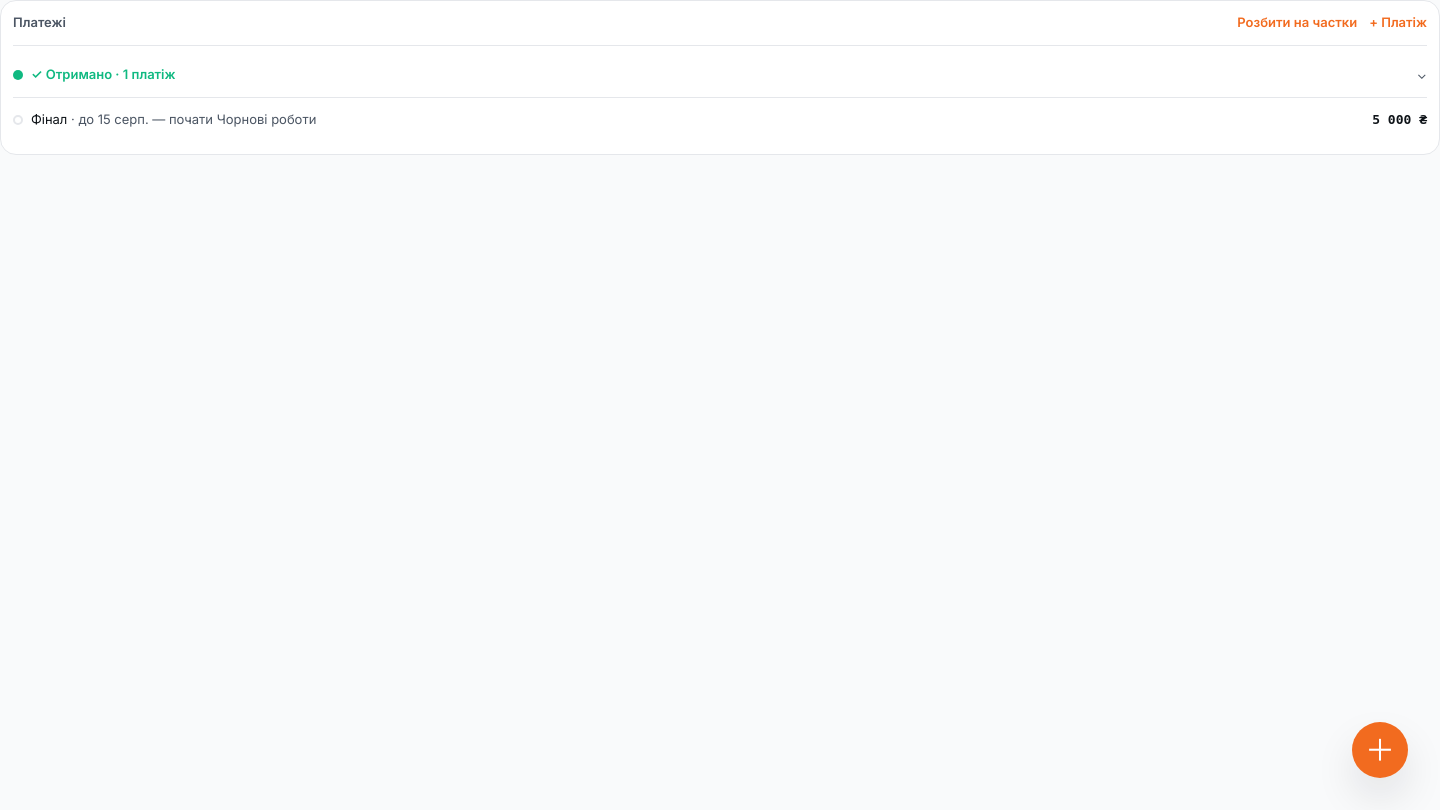
Test: PaymentsBlock — plan vs fact (payments PLAN/FACT split, V100) › unplanned receipts collapse into the received group too, expandable
This screenshot has width=1440, height=810.
Expected: the text "Продаж інструменту" is not shown
Click the text "✓ Отримано · 1 платіж" at coordinates (103, 74), box [31,66,176,82]
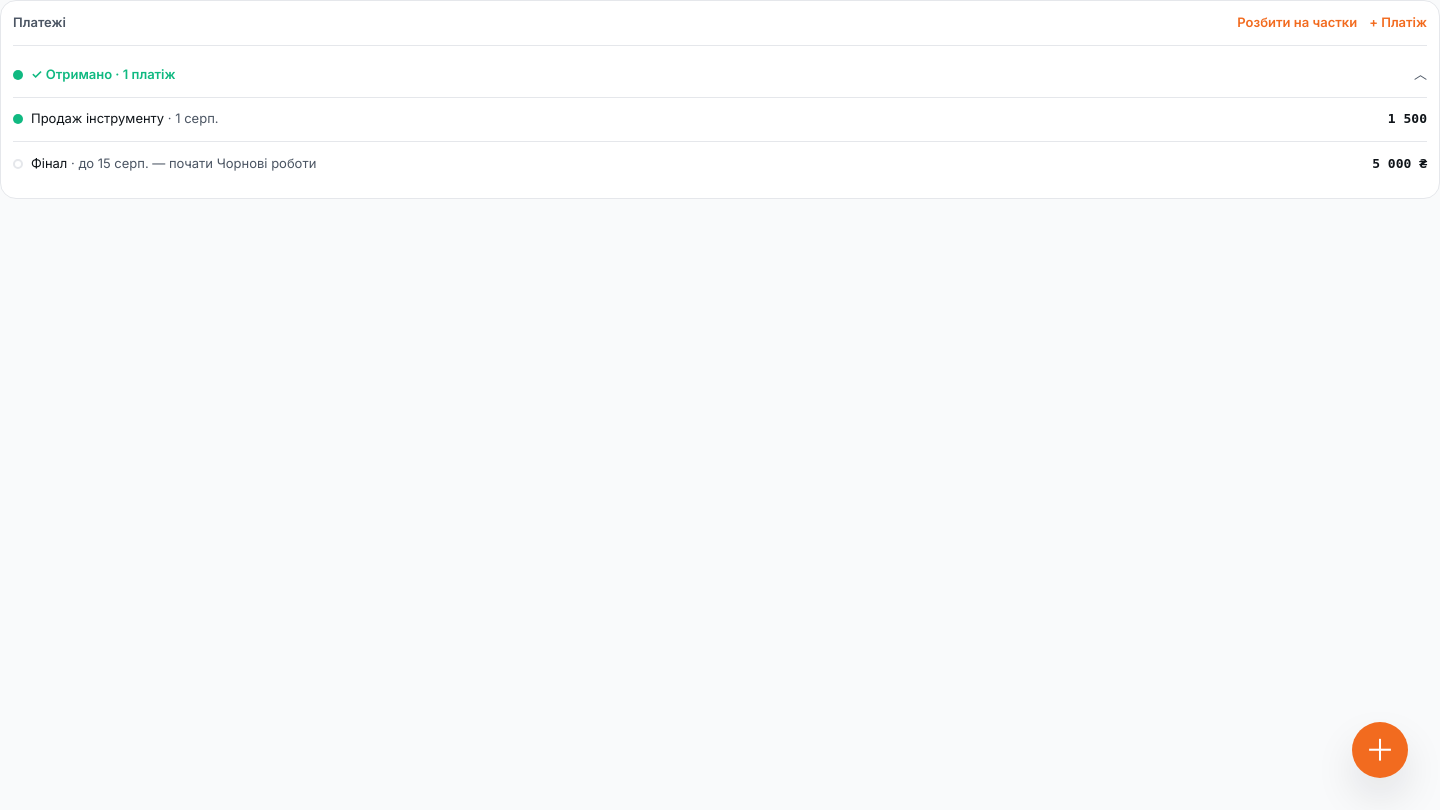
Expected: the text "Продаж інструменту" is shown, [31,110,164,126]
